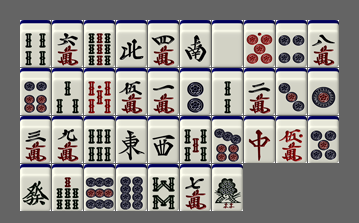0m: (276, 116, 307, 163)
0p: (244, 20, 275, 67)
0s: (84, 68, 115, 115)
1m: (148, 68, 179, 115)
1p: (308, 68, 339, 115)
1s: (212, 164, 243, 211)
1z: (116, 116, 147, 163)
2m: (244, 68, 275, 115)
2p: (180, 68, 211, 115)
2s: (212, 68, 243, 115)
2z: (180, 20, 211, 67)
3m: (20, 116, 51, 163)
3p: (276, 68, 307, 115)
3s: (52, 68, 83, 115)
3z: (148, 116, 179, 163)
4m: (148, 20, 179, 67)
4p: (276, 20, 307, 67)
4s: (20, 20, 51, 67)
4z: (116, 20, 147, 67)
5m: (116, 68, 147, 115)
5p: (308, 116, 339, 163)
5s: (180, 116, 211, 163)
5z: (212, 20, 243, 67)
6m: (52, 20, 83, 67)
6p: (20, 68, 51, 115)
6s: (84, 116, 115, 163)
6z: (20, 164, 51, 211)
7m: (180, 164, 211, 211)
7p: (212, 116, 243, 163)
7s: (52, 164, 83, 211)
7z: (244, 116, 275, 163)
8m: (308, 20, 339, 67)
8p: (116, 164, 147, 211)
8s: (148, 164, 179, 211)
9m: (52, 116, 83, 163)
9p: (84, 164, 115, 211)
9s: (84, 20, 115, 67)
